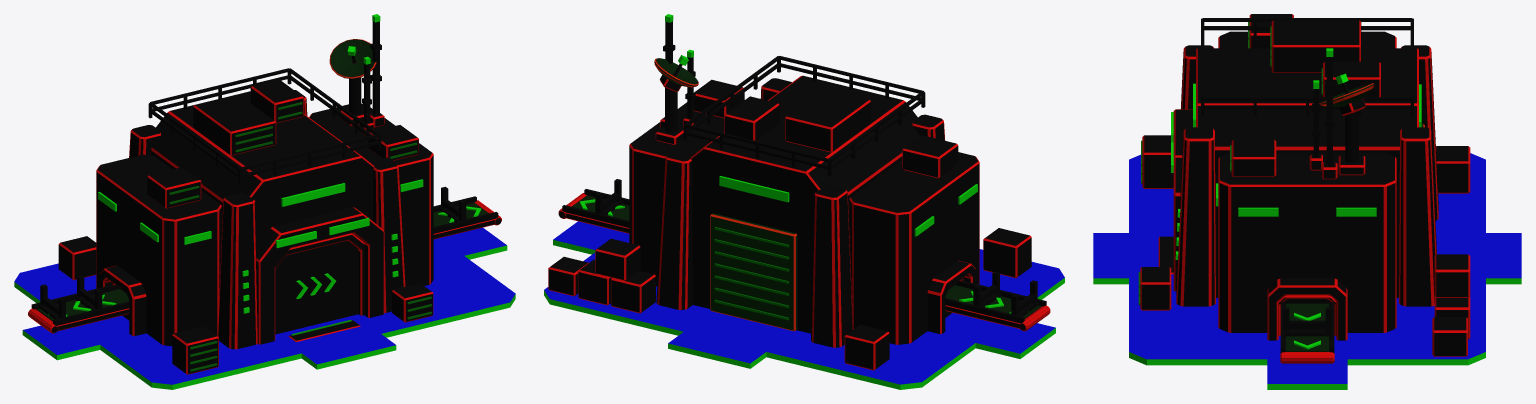
Rendered from SM_Holo_LogisticsHub_T2.fbx.
3 renders of one model, left to right at view 1: azimuth 30°, elevation 25°; view 2: azimuth 150°, elevation 25°; view 3: azimuth 270°, elevation 25°, orthographic. The views are drawn at different scales.
Parts seen in each view (by area): view 1: SM_Holo_LogisticsHub_T2; view 2: SM_Holo_LogisticsHub_T2; view 3: SM_Holo_LogisticsHub_T2.
Part boxes in pixels (left/top/right/bottom): SM_Holo_LogisticsHub_T2: left=14, top=14, right=515, bottom=389; SM_Holo_LogisticsHub_T2: left=544, top=14, right=1064, bottom=389; SM_Holo_LogisticsHub_T2: left=1093, top=14, right=1521, bottom=389.
Bounding box in the file's own units: 27.31 × 13.92 × 19.2.
